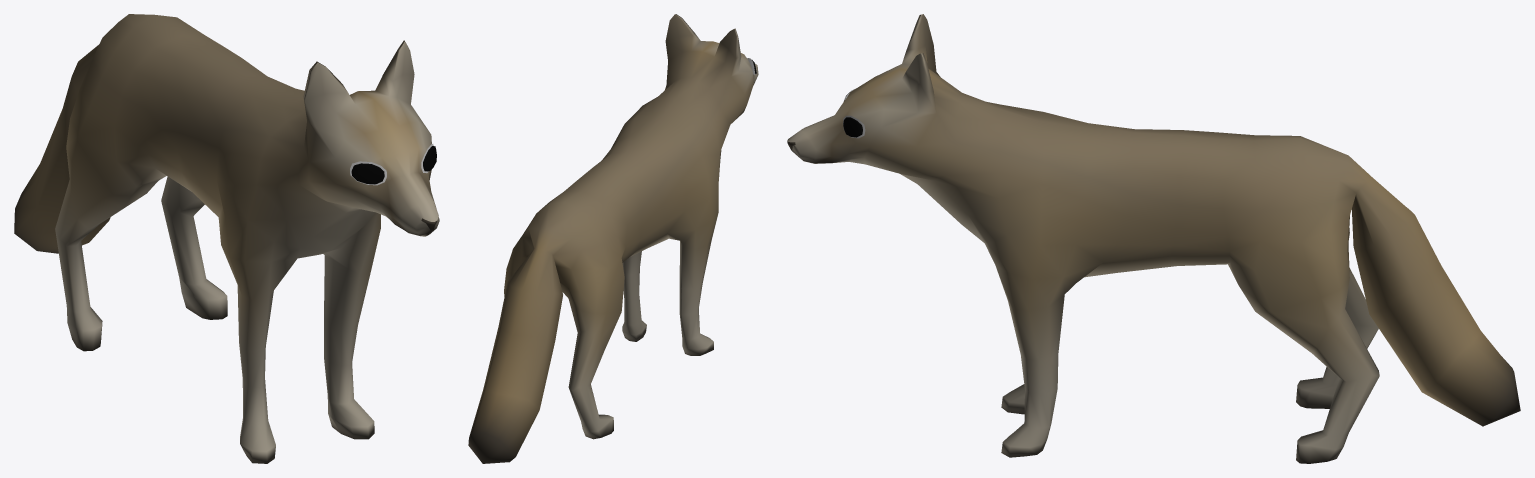
Rendered from animals-animals-kitfox_v1.glb.
3 views of the same model, side by side, from view 1: azimuth 30°, elevation 25°; view 2: azimuth 150°, elevation 25°; view 3: azimuth 270°, elevation 25° (orthographic). The views are drawn at different scales.
Parts seen in each view (by area): view 1: KitFox.001; view 2: KitFox.001; view 3: KitFox.001.
Boxes of the visible parts, left/top/right/bottom form: KitFox.001: left=14, top=14, right=439, bottom=463; KitFox.001: left=468, top=14, right=758, bottom=463; KitFox.001: left=787, top=14, right=1520, bottom=463.
Bounding box in the file's own units: 0.2925 × 0.8238 × 1.38.
